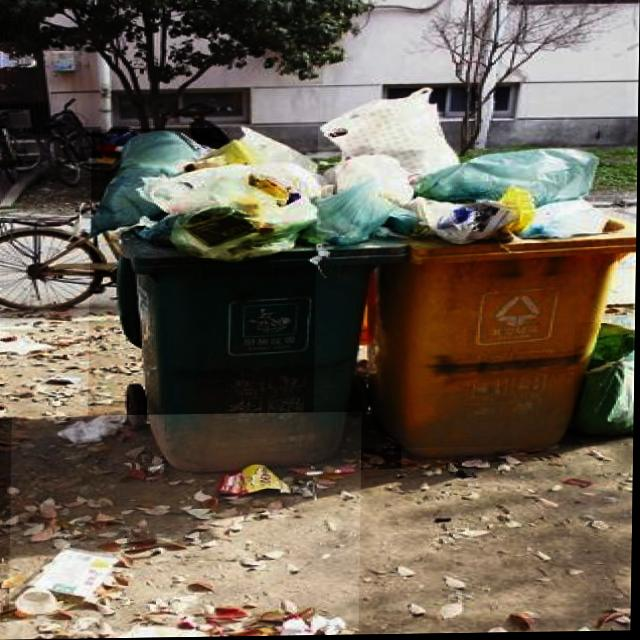garbage: (11, 413, 363, 639), (575, 324, 634, 438)
overflow: (315, 85, 627, 450), (89, 126, 407, 474)
